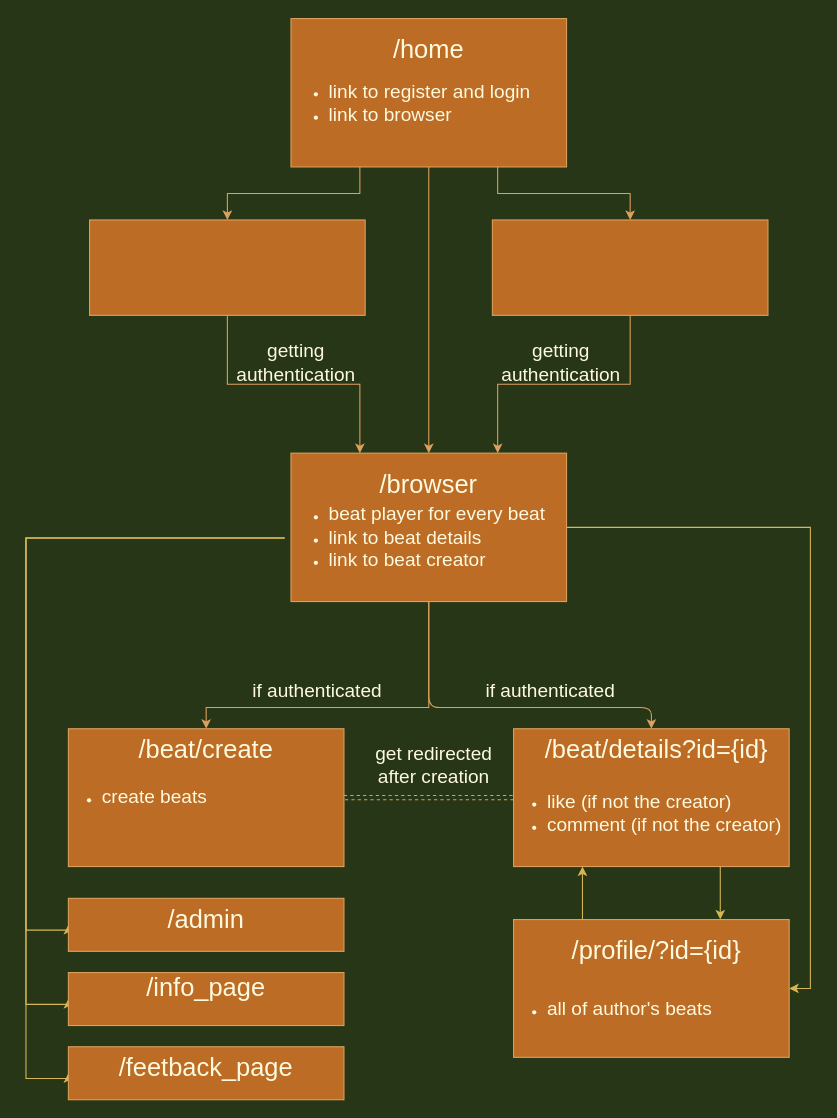
This 837x1118 diagram has some shape labels left out. Here are the shapes that lost their labels. From the top down, the centre of each, then its label:
At (227,267): "/login".
At (629,267): "/register".
